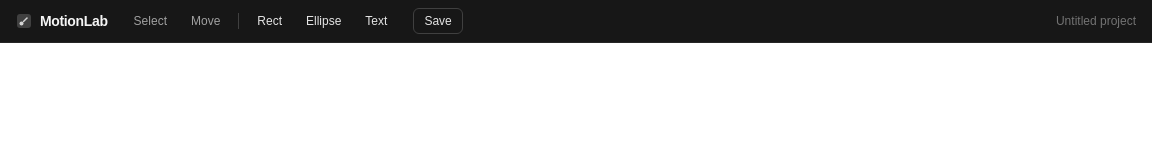
Test: EditorToolbar — save project (T14) › shows an error state when saving fails
The width and height of the screenshot is (1152, 160).
Click the button with aria-label "Save project": (438,21) [413,8,463,34]
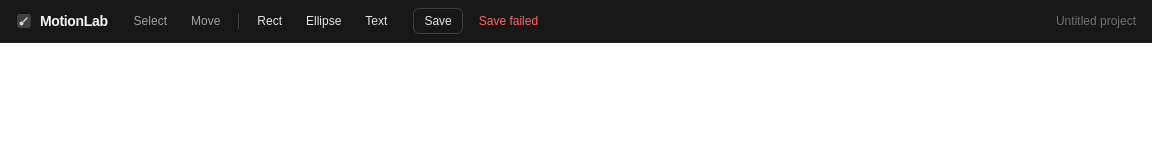
Check: the text with test id "save-state" reads "Save failed", box [479,14,538,28]
